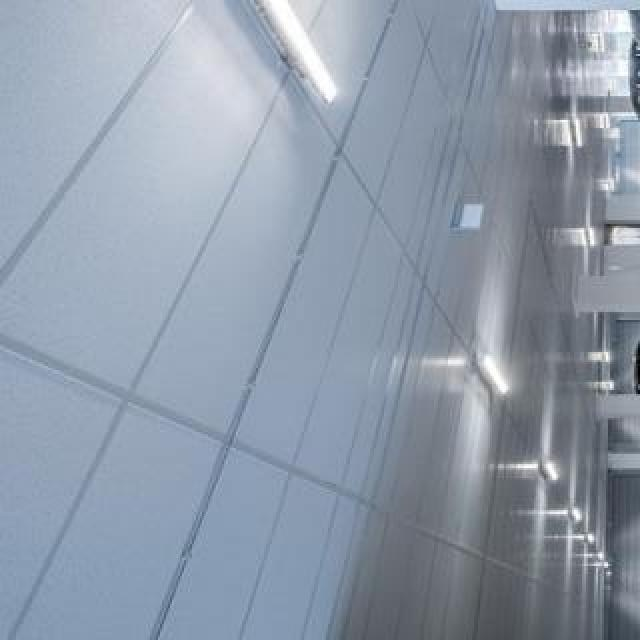fluorescent tube: (204, 0, 358, 112), (476, 342, 520, 407), (562, 86, 600, 158), (551, 493, 596, 536), (531, 442, 564, 493), (581, 203, 603, 261)
